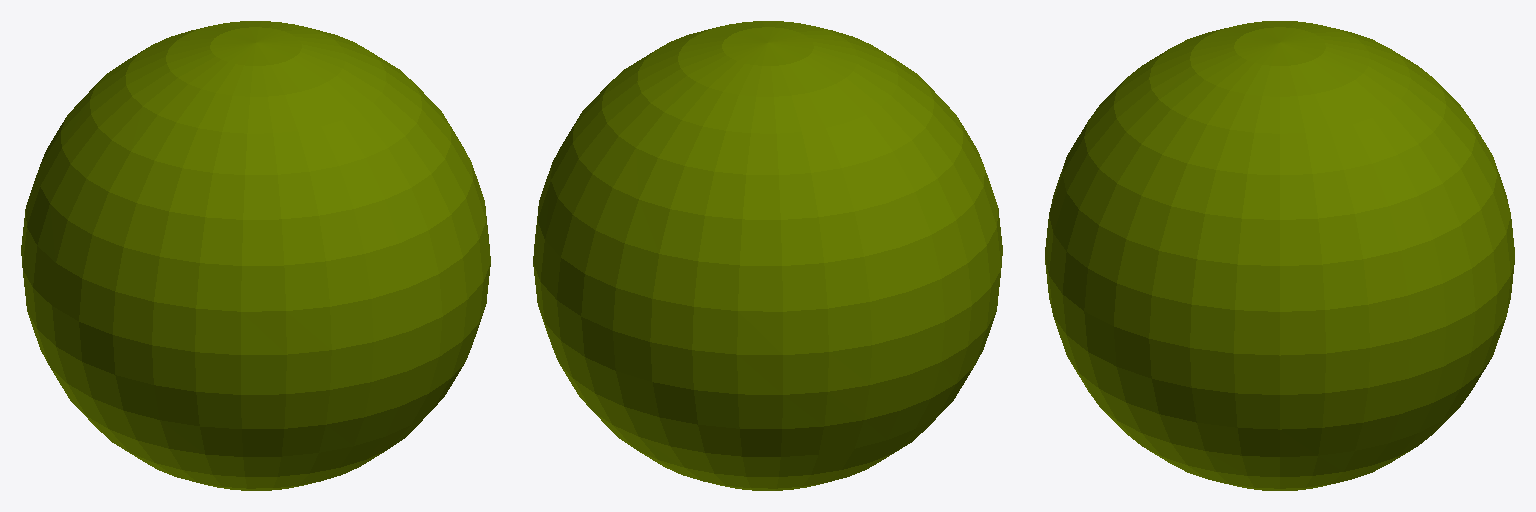
Rendered from ball.obj.
3 views of the same model, side by side, from view 1: azimuth 30°, elevation 25°; view 2: azimuth 150°, elevation 25°; view 3: azimuth 270°, elevation 25° (orthographic).
Visible parts, largest first — view 1: Sphere001; view 2: Sphere001; view 3: Sphere001.
Boxes of the visible parts, x1=… form: Sphere001: x1=21, y1=21, x2=490, y2=490; Sphere001: x1=533, y1=21, x2=1002, y2=490; Sphere001: x1=1045, y1=21, x2=1514, y2=490.
Bounding box in the file's own units: 1 × 1 × 1.